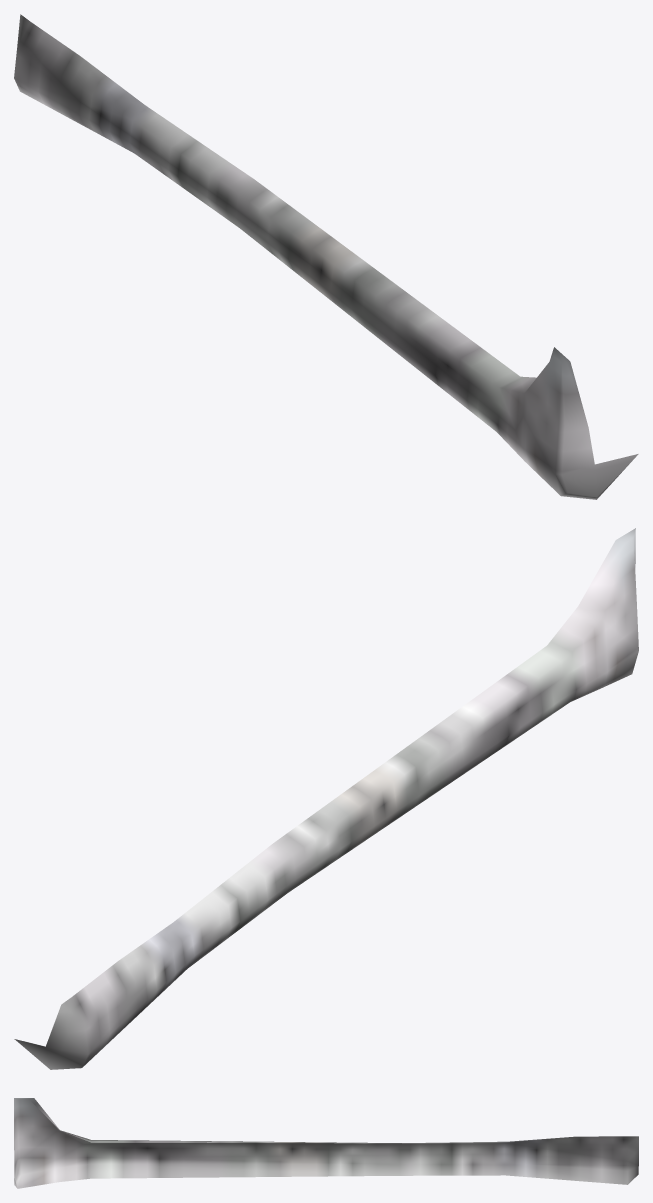
3 renders of one model, top to bottom at view 1: azimuth 30°, elevation 25°; view 2: azimuth 150°, elevation 25°; view 3: azimuth 270°, elevation 25°, orthographic. The views are drawn at different scales.
Visible parts, largest first — view 1: wg_l_a_j; view 2: wg_l_a_j; view 3: wg_l_a_j.
Part boxes in pixels (x1=…): wg_l_a_j: x1=14, y1=14, x2=638, y2=499; wg_l_a_j: x1=14, y1=528, x2=638, y2=1069; wg_l_a_j: x1=14, y1=1098, x2=638, y2=1188.
Bounding box in the file's own units: 0.1728 × 0.3153 × 2.15.
Materials: 1 (1 with a texture image).
